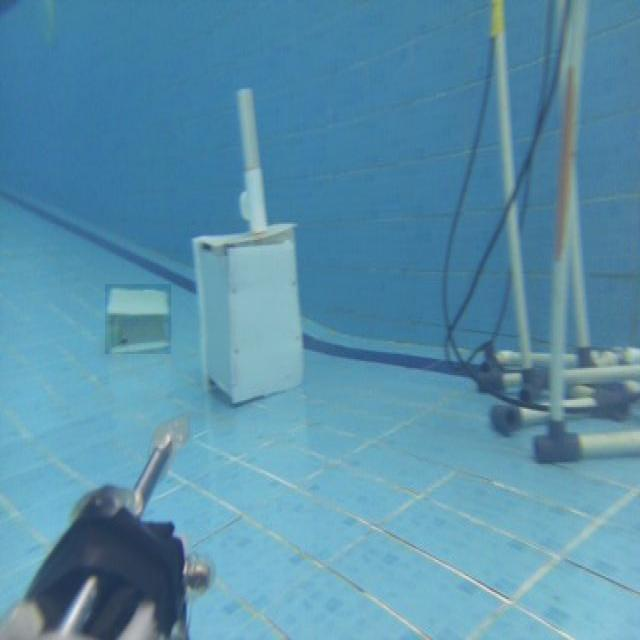Cube: (191, 219, 305, 405)
Cuboid: (105, 284, 171, 354)
